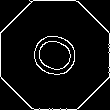O_E: (23, 25, 87, 85)
